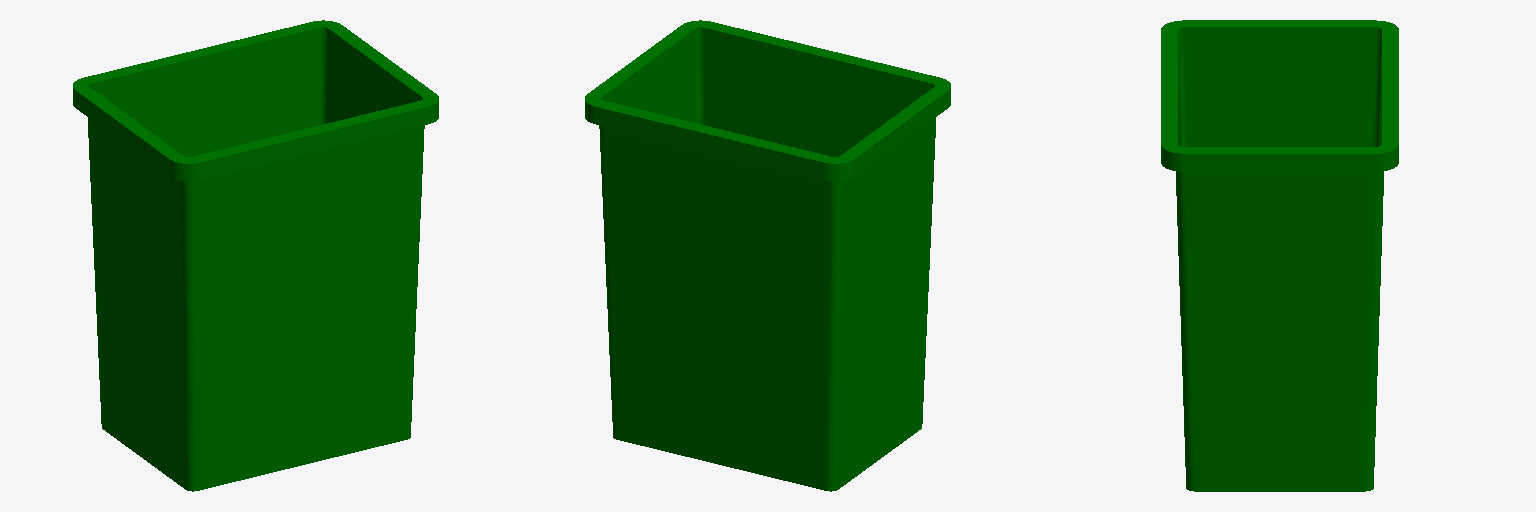
robot.urdf — trash_can:
<?xml version="1.0"?>
<robot name="trash_can">
<link name="trash_can_base_link">
  <inertial>
    <mass value="0.0"/>
    <origin xyz="0 0 0" rpy="0 1.57 0"/>
    <inertia ixx="0.01" ixy="0" ixz="0" iyy="0.01" iyz="0" izz="0.01"/>
  </inertial>

  <visual>
    <origin xyz="0 0 0" rpy="0 1.57 0"/>
    <geometry>
      <mesh filename="package://meshes/trash_can.dae" scale="2 2 2"/>
    </geometry>
    <material name="material_name">
      <color rgba="0.0 0.5 0.0 1.0"/>
    </material>
  </visual>

  <collision>
    <origin xyz="0 0 0" rpy="0 1.57 0"/>
    <geometry>
      <mesh filename="package://meshes/trash_can.dae" scale="2 2 2"/> 
      
      </geometry>
  </collision>
</link>
</robot>

--- Render facts (derived) ---
The picture shows the robot from 3 angles, left to right: view 1: azimuth 30°, elevation 25°; view 2: azimuth 150°, elevation 25°; view 3: azimuth 270°, elevation 25°; orthographic projection.
Model trash_can with 1 links and 0 joints (none), rooted at trash_can_base_link, posed all joints at 0.
Links seen in each view (by area): view 1: trash_can_base_link; view 2: trash_can_base_link; view 3: trash_can_base_link.
Boxes of the visible links, x1,y1,x2,y2 form: trash_can_base_link: (73,20,438,491); trash_can_base_link: (585,20,950,491); trash_can_base_link: (1161,20,1398,491).
Size in the robot's own frame: 0.69 by 0.52 by 0.8405 metres.
Meshes: 1 distinct files referenced, 1 mesh visuals loaded (1 Collada DAE).
